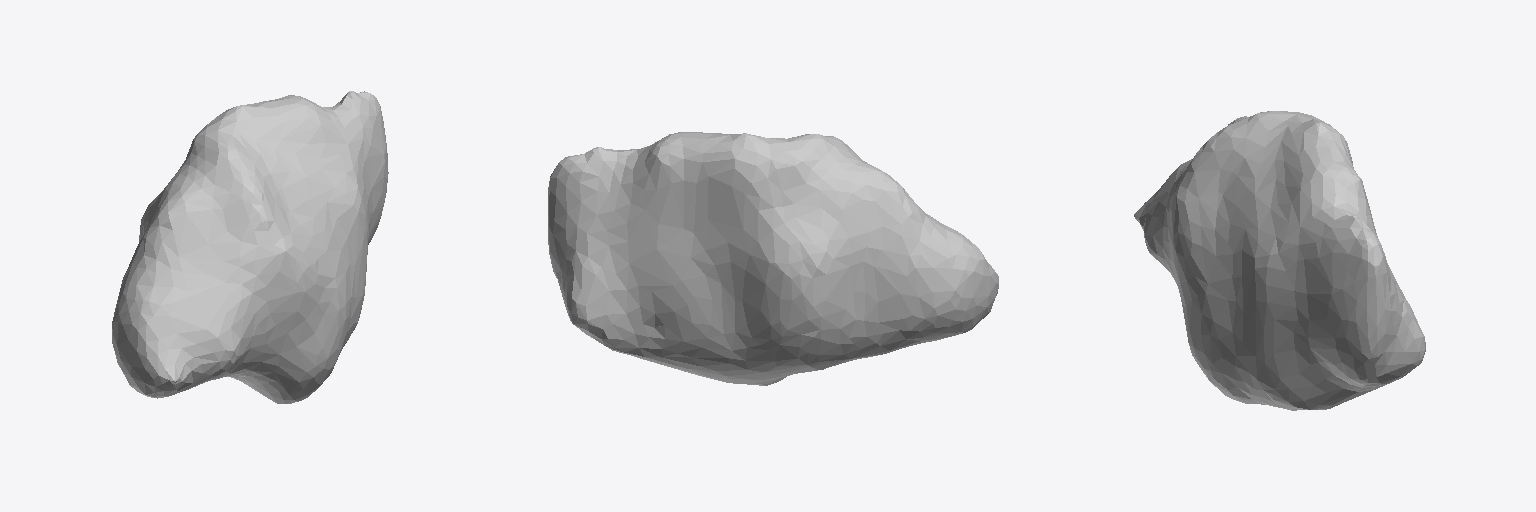
File: R-Globus.obj
The picture shows the model from 3 angles: view 1: azimuth 30°, elevation 25°; view 2: azimuth 150°, elevation 25°; view 3: azimuth 270°, elevation 25°; orthographic projection.
Visible parts, largest first — view 1: R-globus_LEFT-globus.000; view 2: R-globus_LEFT-globus.000; view 3: R-globus_LEFT-globus.000.
Part boxes in pixels (left/top/right/bottom): R-globus_LEFT-globus.000: left=112, top=91, right=388, bottom=403; R-globus_LEFT-globus.000: left=548, top=132, right=998, bottom=385; R-globus_LEFT-globus.000: left=1134, top=111, right=1425, bottom=410.
Size of the model in its own units: 25.43 by 18.96 by 18.64.